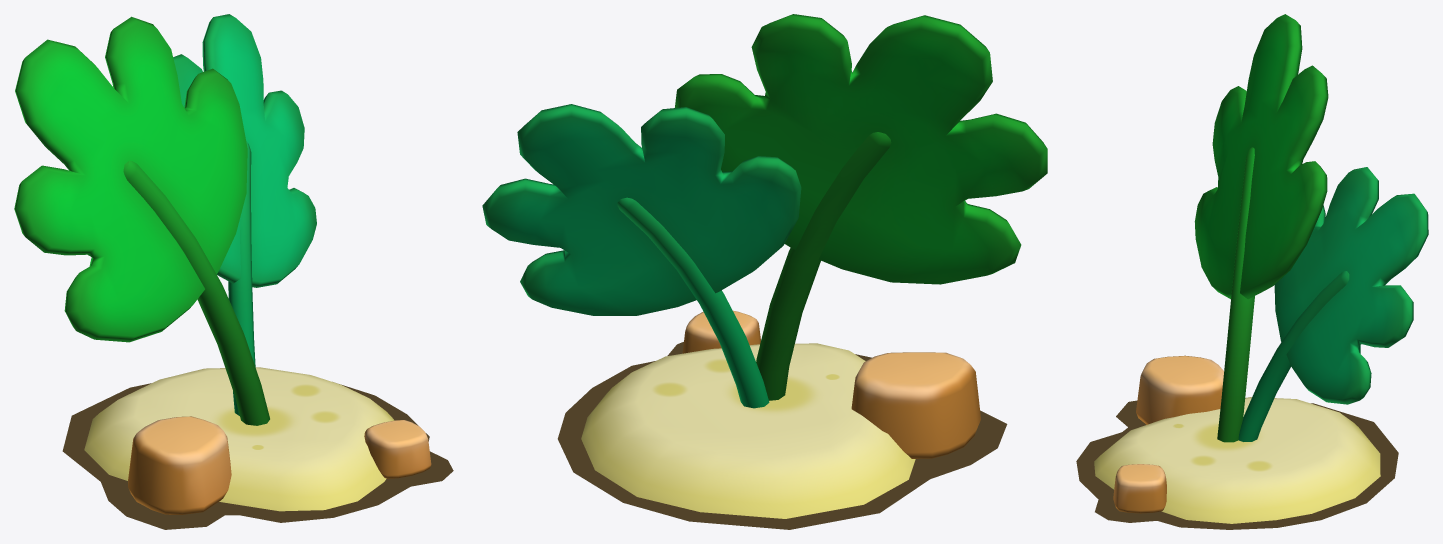
Rendered from E_Plant04.fbx.
3 renders of one model, left to right at view 1: azimuth 30°, elevation 25°; view 2: azimuth 150°, elevation 25°; view 3: azimuth 270°, elevation 25°, orthographic. The views are drawn at different scales.
Visible parts, largest first — view 1: group36_pCylinder51, pCube46, group36_pCylinder52, polySurface43; view 2: group36_pCylinder51, pCube46, group36_pCylinder52, polySurface43; view 3: pCube46, group36_pCylinder51, group36_pCylinder52, polySurface43.
Boxes of the visible parts, left/top/right/bottom form: group36_pCylinder51: left=14, top=16, right=269, bottom=425; pCube46: left=84, top=367, right=431, bottom=514; group36_pCylinder52: left=173, top=14, right=316, bottom=415; polySurface43: left=62, top=383, right=453, bottom=529; group36_pCylinder51: left=675, top=14, right=1047, bottom=400; pCube46: left=581, top=310, right=980, bottom=518; group36_pCylinder52: left=482, top=104, right=801, bottom=408; polySurface43: left=557, top=342, right=1007, bottom=529; pCube46: left=1094, top=355, right=1380, bottom=523; group36_pCylinder51: left=1194, top=14, right=1328, bottom=442; group36_pCylinder52: left=1238, top=167, right=1428, bottom=441; polySurface43: left=1076, top=400, right=1398, bottom=529.
Bounding box in the file's own units: 135 × 140 × 120.
2 materials, 1 textured.
